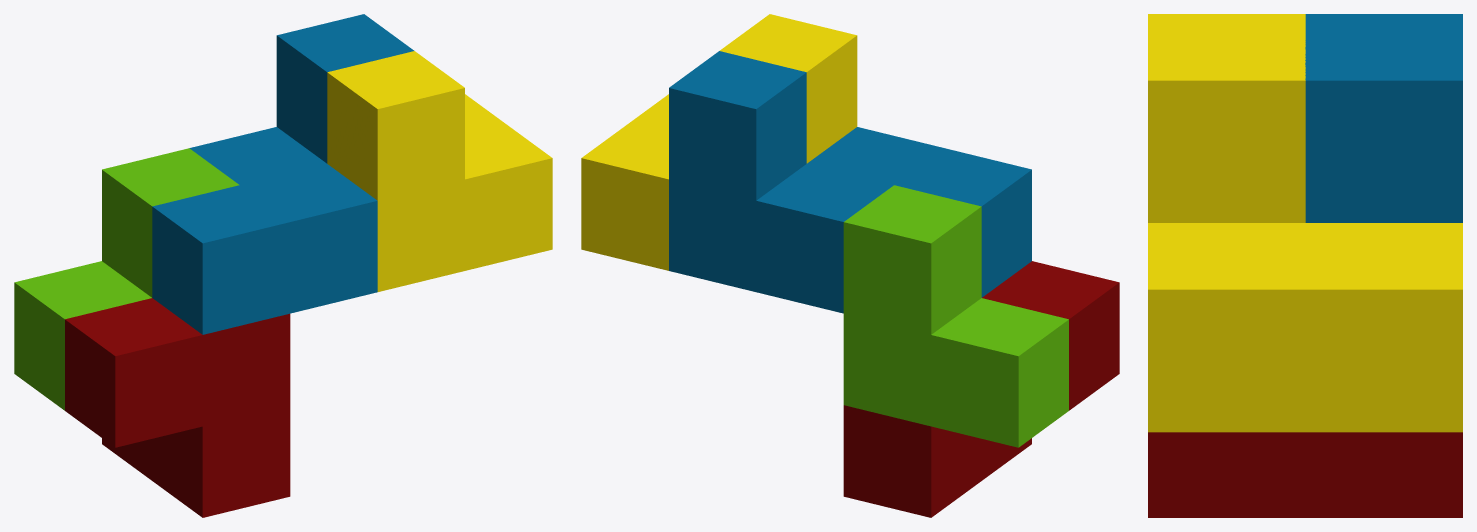
3 renders of one model, left to right at view 1: azimuth 30°, elevation 25°; view 2: azimuth 150°, elevation 25°; view 3: azimuth 270°, elevation 25°, orthographic. The views are drawn at different scales.
Visible parts, largest first — view 1: mergedBlocks(Clone); view 2: mergedBlocks(Clone); view 3: mergedBlocks(Clone).
Part boxes in pixels (x1=…): mergedBlocks(Clone): x1=14, y1=14, x2=552, y2=517; mergedBlocks(Clone): x1=581, y1=14, x2=1119, y2=517; mergedBlocks(Clone): x1=1148, y1=14, x2=1462, y2=517.
Bounding box in the file's own units: 5 × 4 × 2.
4 materials, 4 textured.
